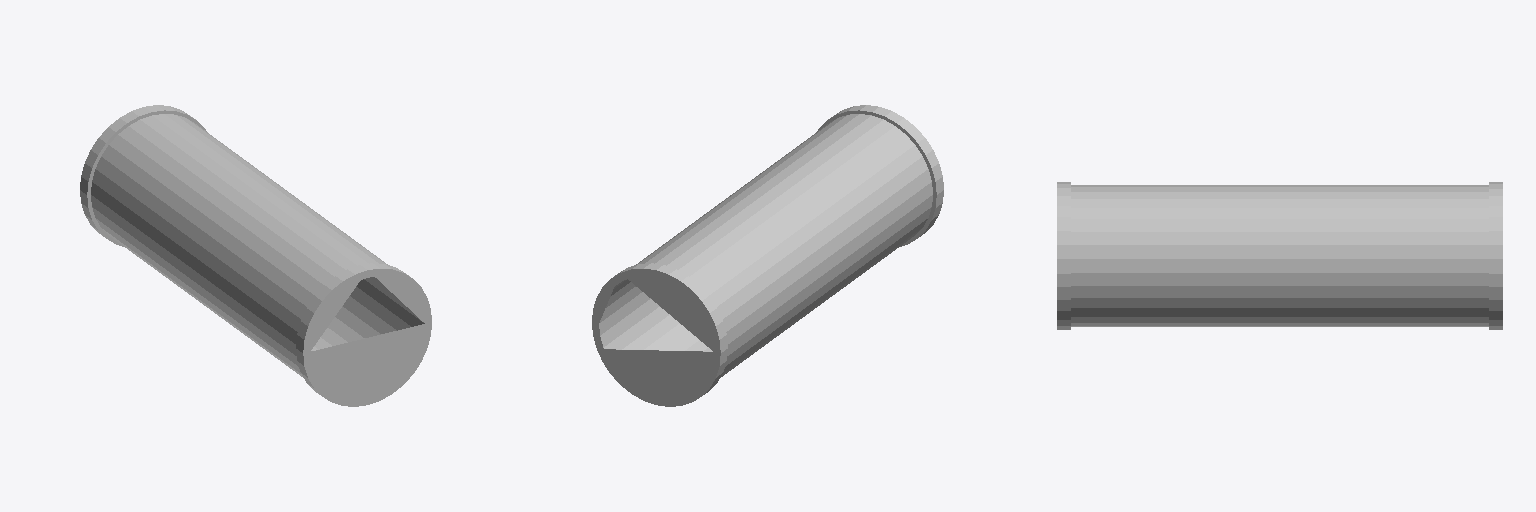
Rendered from IShapePipe.obj.
3 views of the same model, side by side, from view 1: azimuth 30°, elevation 25°; view 2: azimuth 150°, elevation 25°; view 3: azimuth 270°, elevation 25° (orthographic).
Visible parts, largest first — view 1: IShapePipe_Cylinder.005; view 2: IShapePipe_Cylinder.005; view 3: IShapePipe_Cylinder.005.
Part boxes in pixels (x1,y1,x2,y2): IShapePipe_Cylinder.005: (80,105,431,406); IShapePipe_Cylinder.005: (592,105,943,406); IShapePipe_Cylinder.005: (1057,182,1502,329).
Size of the model in its own units: 1 by 1 by 3.